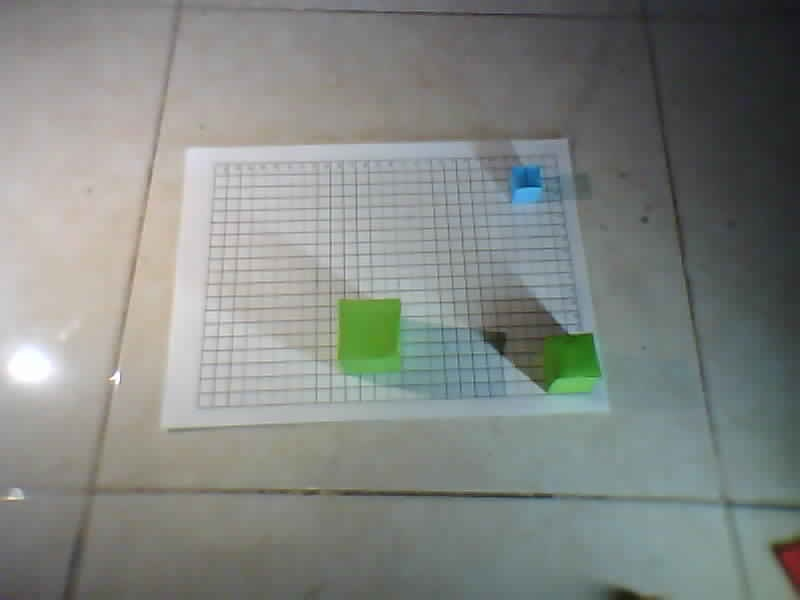LB: (195, 403, 203, 409)
LT: (211, 161, 219, 167)
RB: (586, 391, 594, 397)
RT: (552, 151, 560, 157)
